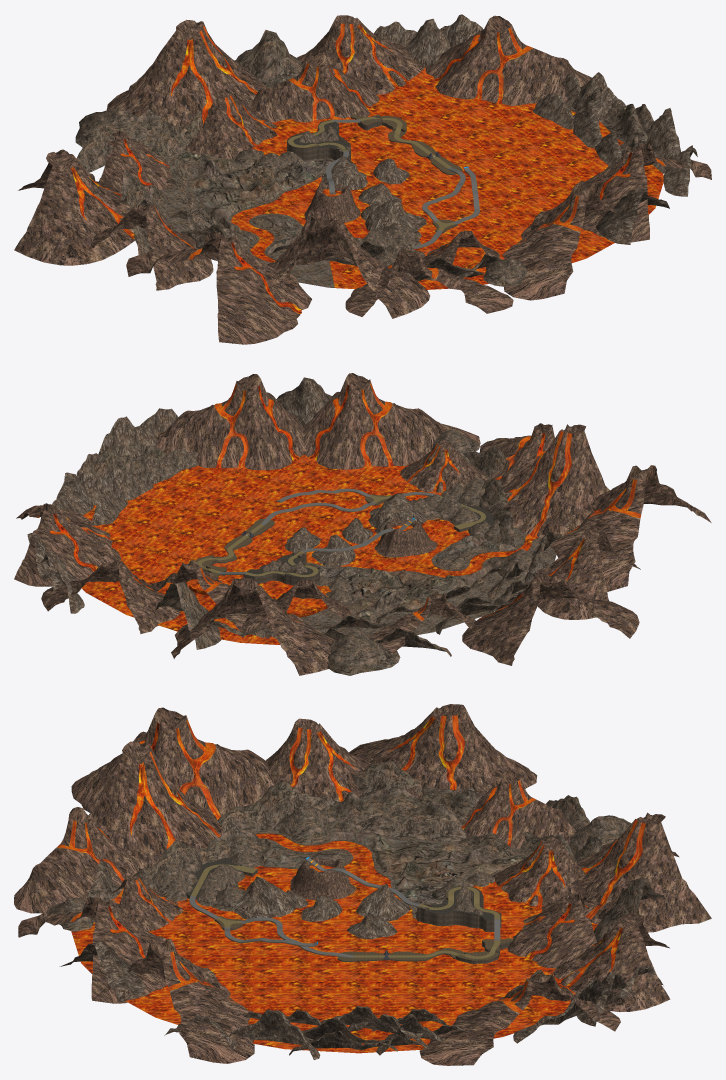
The model's file is volcano_valley.glb.
3 renders of one model, top to bottom at view 1: azimuth 30°, elevation 25°; view 2: azimuth 150°, elevation 25°; view 3: azimuth 270°, elevation 25°, orthographic. The views are drawn at different scales.
Visible parts, largest first — view 1: Material2 (×7), Material3 (×3), Material4; view 2: Material2 (×7), Material3 (×4), Material4; view 3: Material2 (×7), Material3 (×4), Material4.
Boxes of the visible parts, bbox=[...] form: Material2 (×7): bbox=[14, 14, 711, 344]; Material3 (×3): bbox=[231, 67, 663, 289]; Material4: bbox=[211, 116, 462, 287]; Material2 (×7): bbox=[14, 373, 711, 675]; Material3 (×4): bbox=[81, 455, 538, 644]; Material4: bbox=[203, 499, 527, 634]; Material2 (×7): bbox=[14, 704, 711, 1065]; Material3 (×4): bbox=[71, 833, 597, 1053]; Material4: bbox=[186, 833, 512, 963].
Bounding box in the file's own units: 79671 × 10919 × 72802.
Materials: 24 (20 with a texture image).
